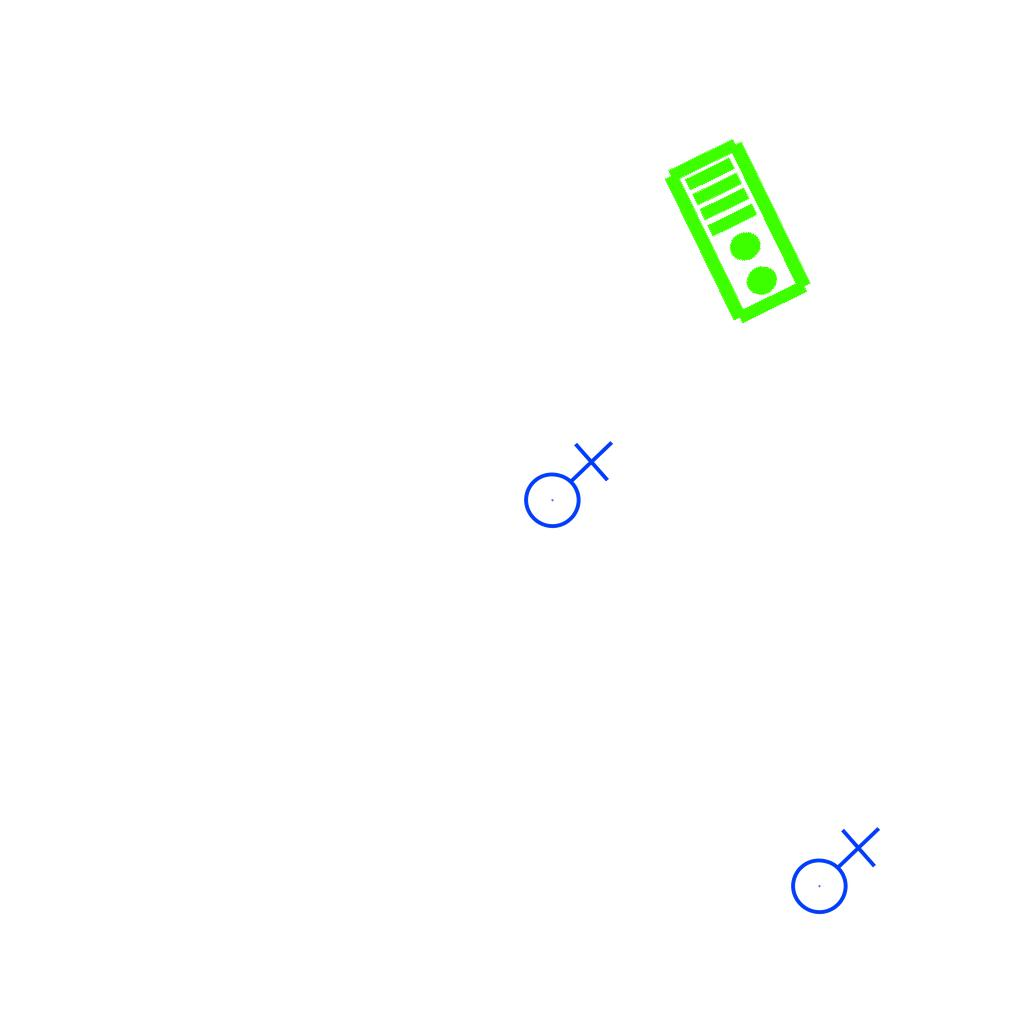Elektroanschluss_allgemein_230V_Geraeteanschlussdose_230V: (782, 822, 881, 916), (515, 436, 614, 530)
Gegensprechanlage_mit_Video: (658, 131, 821, 331)
